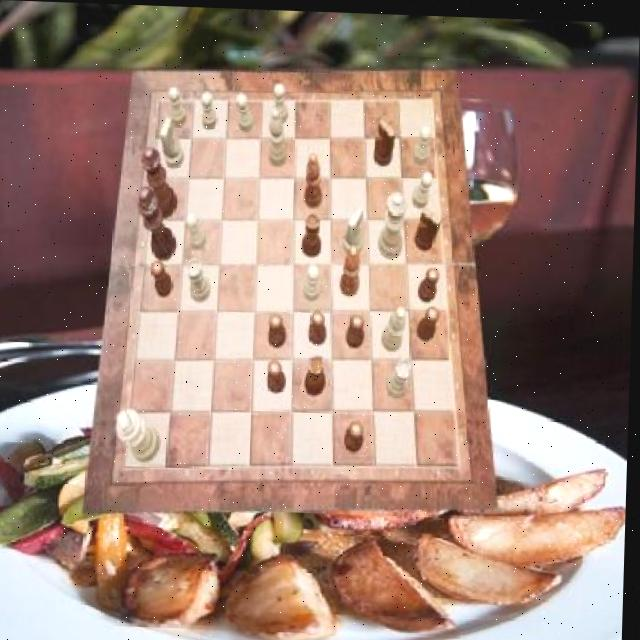bishop: (339, 242, 361, 295), (304, 151, 323, 206)
black-bishop: (137, 184, 179, 260)
black-king: (415, 204, 442, 249), (374, 116, 396, 164)
black-knight: (150, 260, 174, 297), (418, 303, 441, 338), (419, 263, 440, 298), (269, 357, 289, 392), (346, 418, 366, 451), (310, 308, 328, 343), (270, 311, 288, 346), (347, 312, 365, 346)
black-pawn: (140, 146, 179, 218)
black-queen: (302, 210, 323, 256), (306, 354, 327, 394)
black-rook: (384, 302, 409, 348), (270, 105, 288, 164)
white-bishop: (117, 407, 163, 462)
white-king: (159, 115, 185, 167), (343, 204, 364, 254)
white-knight: (186, 210, 208, 248), (413, 167, 433, 205), (236, 92, 255, 131), (413, 123, 431, 164), (169, 85, 187, 126), (201, 89, 219, 128), (304, 261, 322, 299), (271, 82, 288, 122)
white-pawn: (378, 188, 407, 255)
white-queen: (186, 256, 213, 300), (388, 356, 413, 397)
